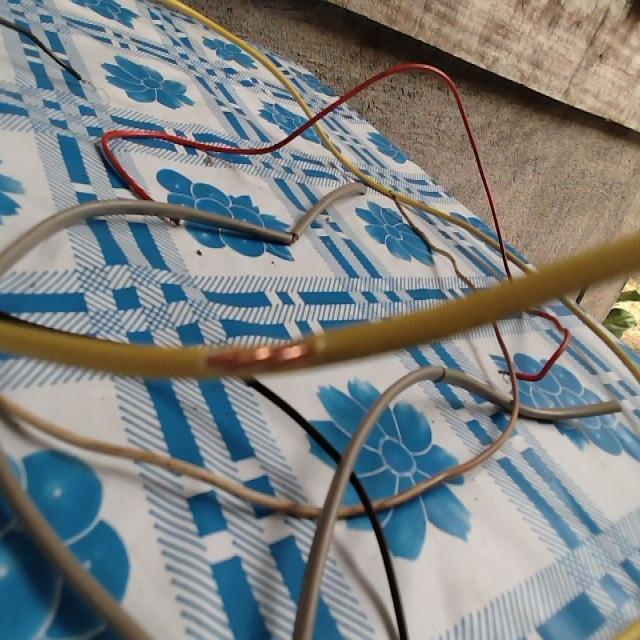-: (196, 329, 324, 376), (284, 228, 302, 252), (71, 69, 92, 84), (385, 188, 400, 207)
